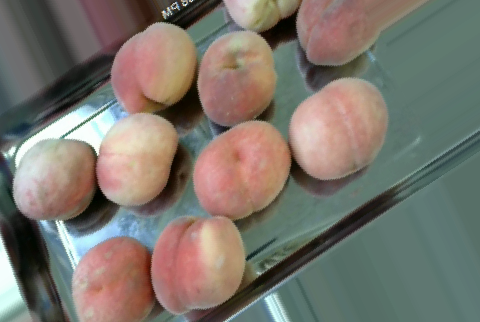Peach: (289, 76, 388, 179), (192, 121, 290, 219), (150, 215, 247, 313), (110, 20, 196, 112), (196, 29, 276, 125), (96, 113, 180, 204), (9, 136, 98, 220), (71, 236, 155, 322), (295, 0, 378, 64)
